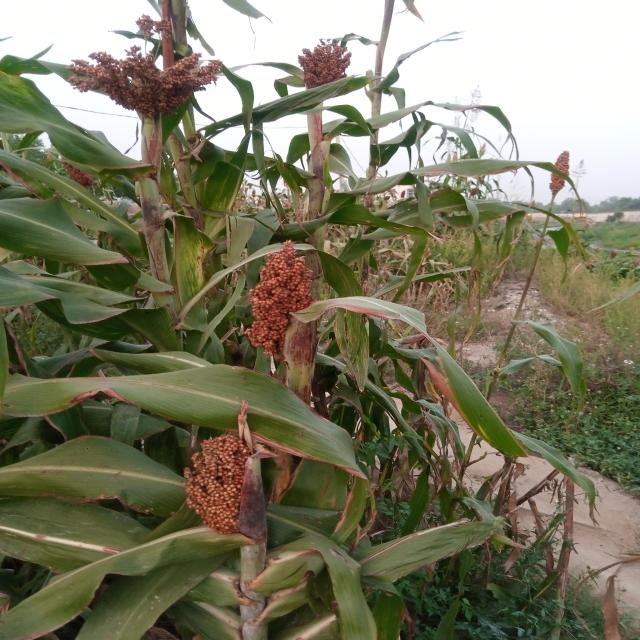RipeSorghum: (221, 242, 343, 357), (176, 417, 274, 541)
